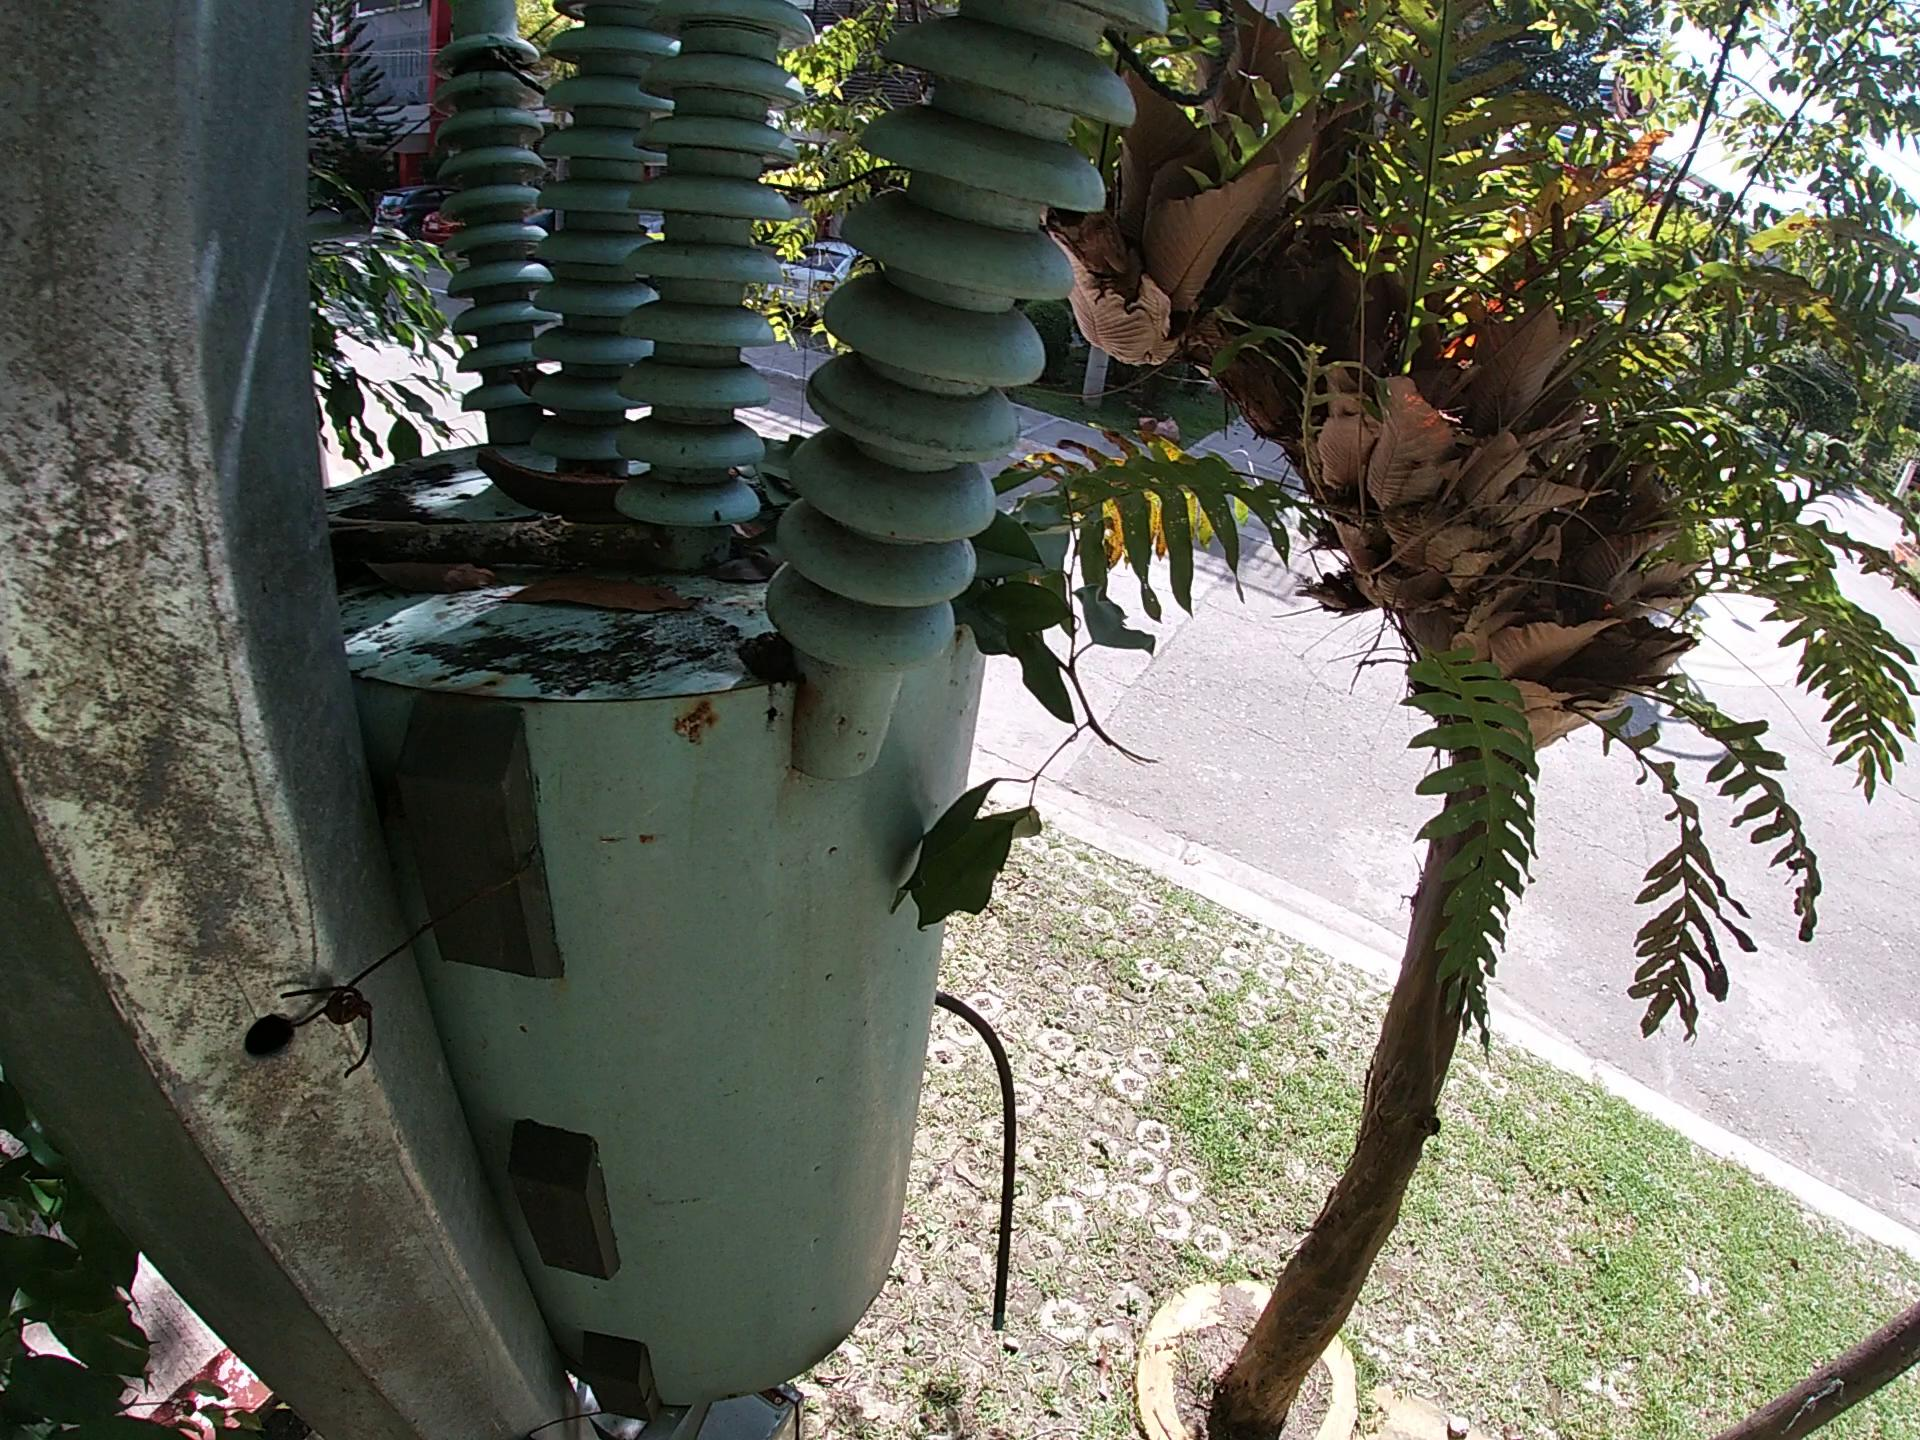branch with leaves: (887, 439, 1169, 976)
leaf: (736, 414, 821, 590), (494, 584, 686, 619), (345, 561, 497, 597)
mahogany fruit: (472, 446, 643, 508)
tree branch: (301, 504, 717, 563)
